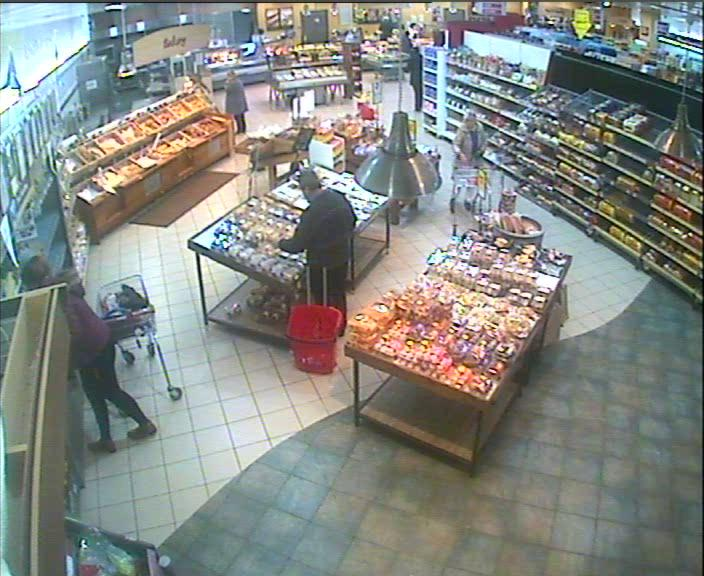filled-basket: (288, 300, 344, 374)
filled-trolly: (95, 274, 182, 402)
person: (20, 256, 157, 454), (274, 170, 357, 335)
person-with-filled-basket-trolly: (20, 256, 183, 453), (274, 169, 357, 374)
